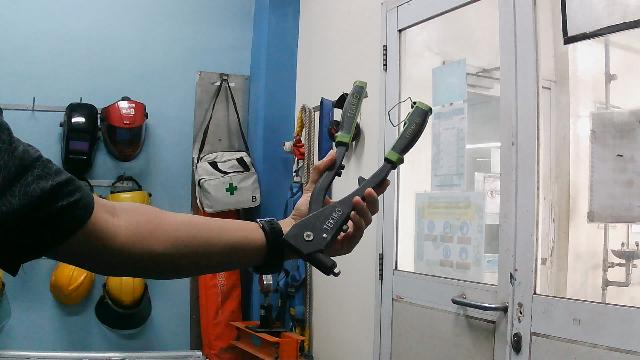tang_rivet: (277, 74, 439, 282)
